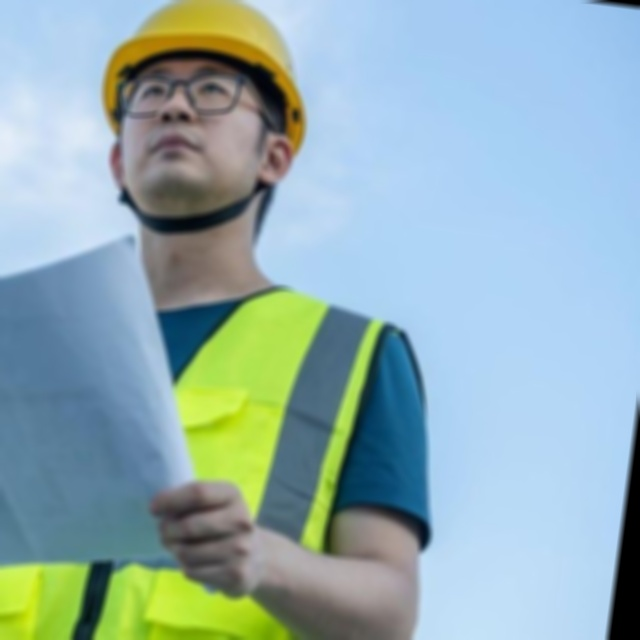Con_Casco: (85, 0, 323, 240)
Con_Chaleco: (0, 258, 429, 640)
